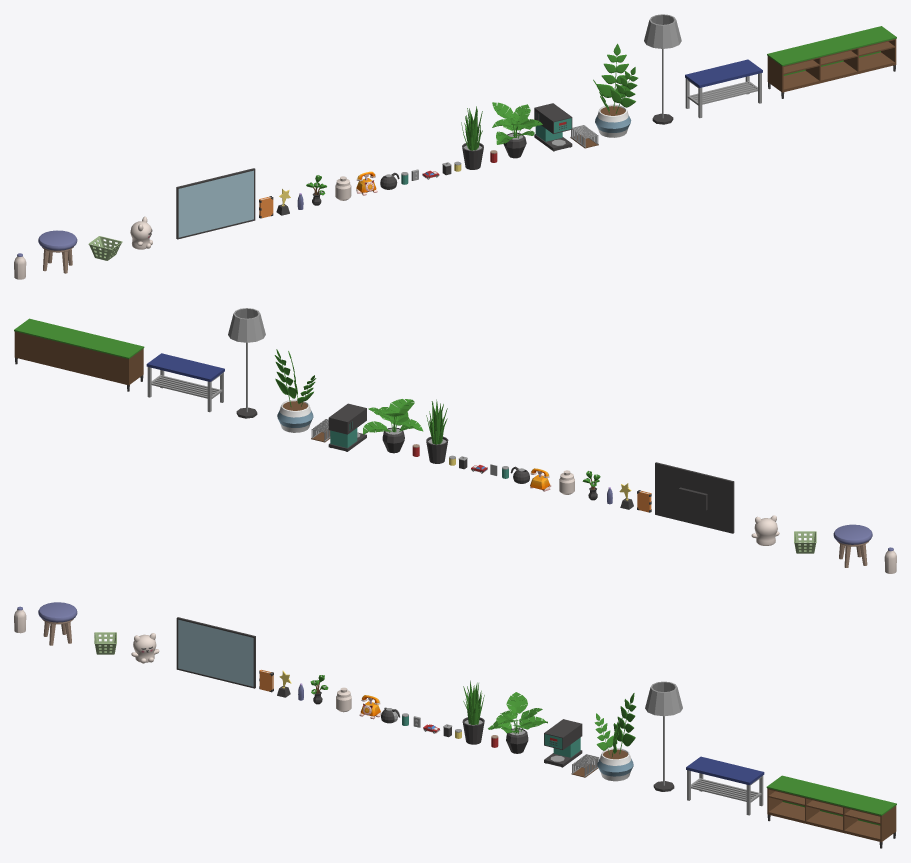
Rendered from props4.fbx.
3 views of the same model, one above another, from view 1: azimuth 30°, elevation 25°; view 2: azimuth 150°, elevation 25°; view 3: azimuth 330°, elevation 25° (orthographic).
Visible parts, largest first — view 1: TV_Table, TV, plant_pot, Bench, Plant.001, CoffeeMachine, Light, stole, Plant, basket, pompi; view 2: TV_Table, TV, Bench, plant_pot, Plant.001, CoffeeMachine, Light, stole, Plant, pompi; view 3: TV_Table, TV, Bench, plant_pot, Plant.001, CoffeeMachine, Light, stole, Plant, pompi.
Part boxes in pixels (x1,y1,x2,y2): TV_Table: (767,26,896,98); TV: (176,168,255,239); plant_pot: (593,43,638,137); Bench: (685,59,762,118); Plant.001: (492,102,542,158); CoffeeMachine: (534,103,572,151); Light: (644,14,681,124); stole: (38,230,77,273); Plant: (461,106,483,169); basket: (88,236,122,260); pompi: (130,216,152,249); TV_Table: (14,318,144,391); TV: (655,462,734,533); Bench: (146,353,224,412); plant_pot: (274,349,316,432); Plant.001: (363,399,423,453); CoffeeMachine: (328,403,366,451); Light: (228,308,265,418); stole: (833,524,872,567); Plant: (426,399,448,463); pompi: (751,515,779,545); TV_Table: (766,775,896,848); TV: (176,617,255,688); Bench: (686,756,764,815); plant_pot: (594,693,636,781); Plant.001: (488,692,547,753); CoffeeMachine: (544,719,582,767); Light: (645,681,682,791); stole: (38,602,77,645); Plant: (462,680,484,744); pompi: (131,633,159,663).
Size of the model in its own units: 1614 by 181 by 98.58.
